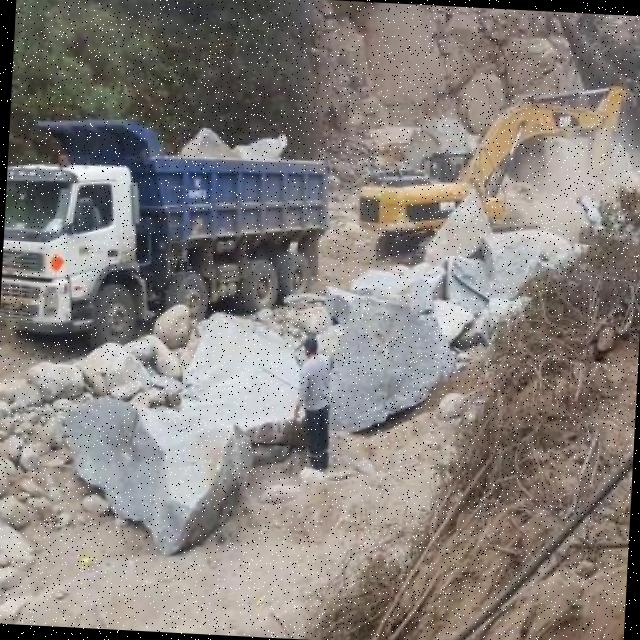Dump Truck: (0, 113, 333, 362)
Excavator: (350, 72, 636, 280)
